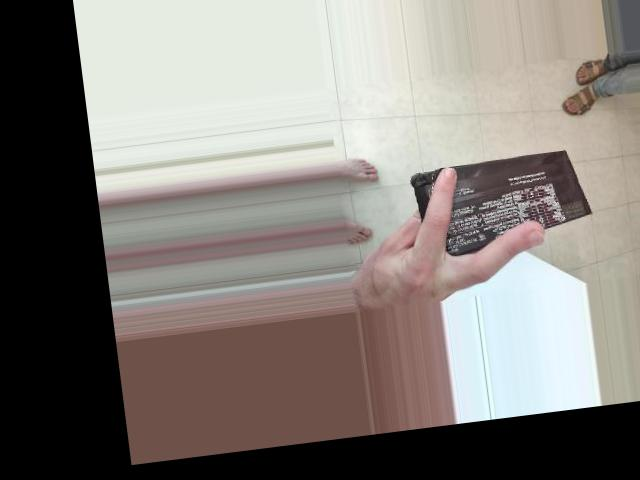chocolate: (434, 55, 564, 249)
